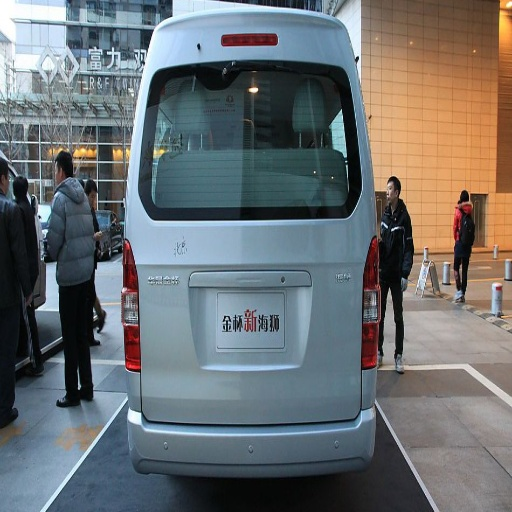back_bumper: (131, 369, 385, 480)
tailgate: (149, 202, 345, 374)
